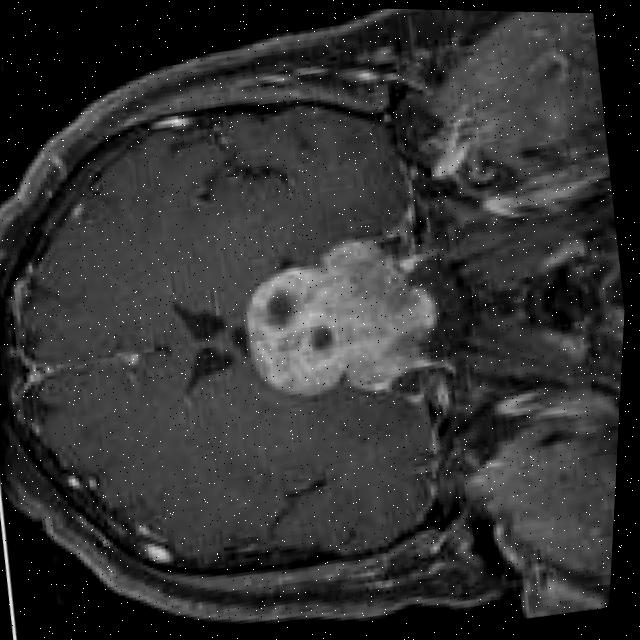Pituitary: (320, 220, 452, 402), (232, 257, 348, 404)
